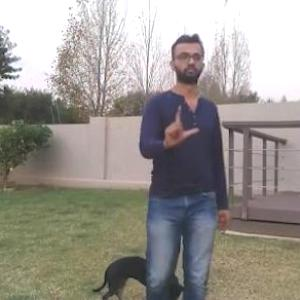land_hand: (160, 99, 200, 144)
